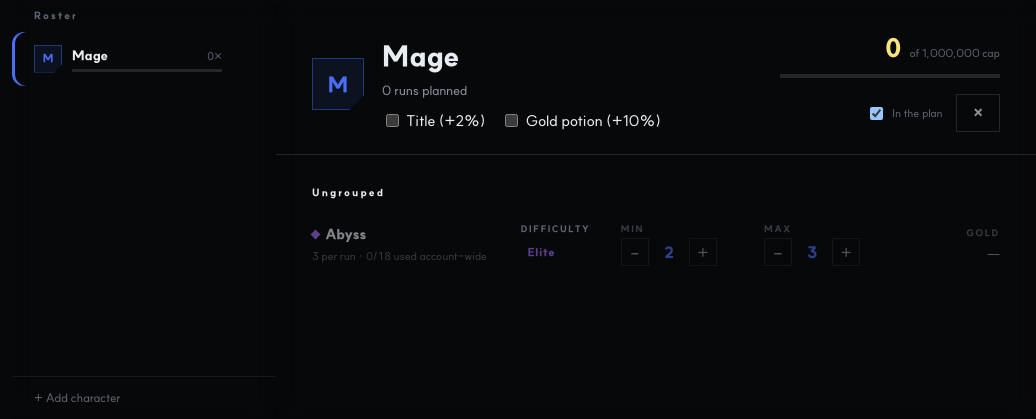
Scenario: QuestLog cells › moves the number before the write lands
Click the button named "one more minimum run of abyss for mage" at (703, 252), box [689,238,717,266]
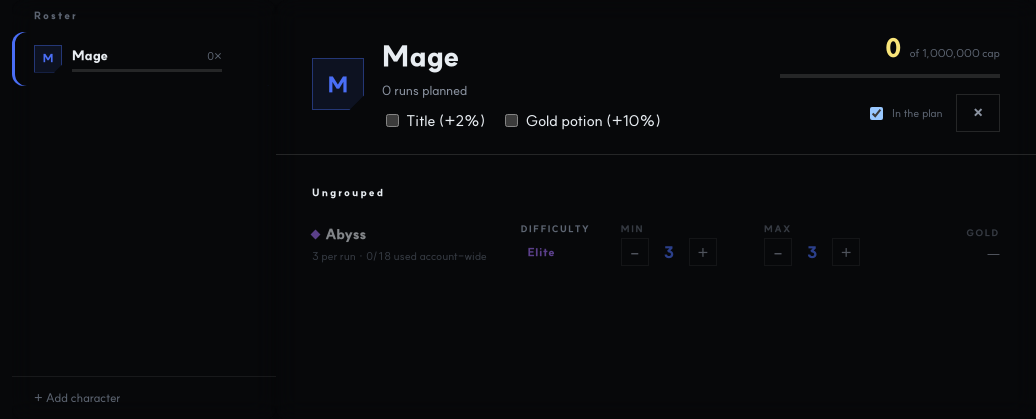
expect the text named "Mage minimum runs in Abyss" reads "3": met, box [664,242,674,262]
